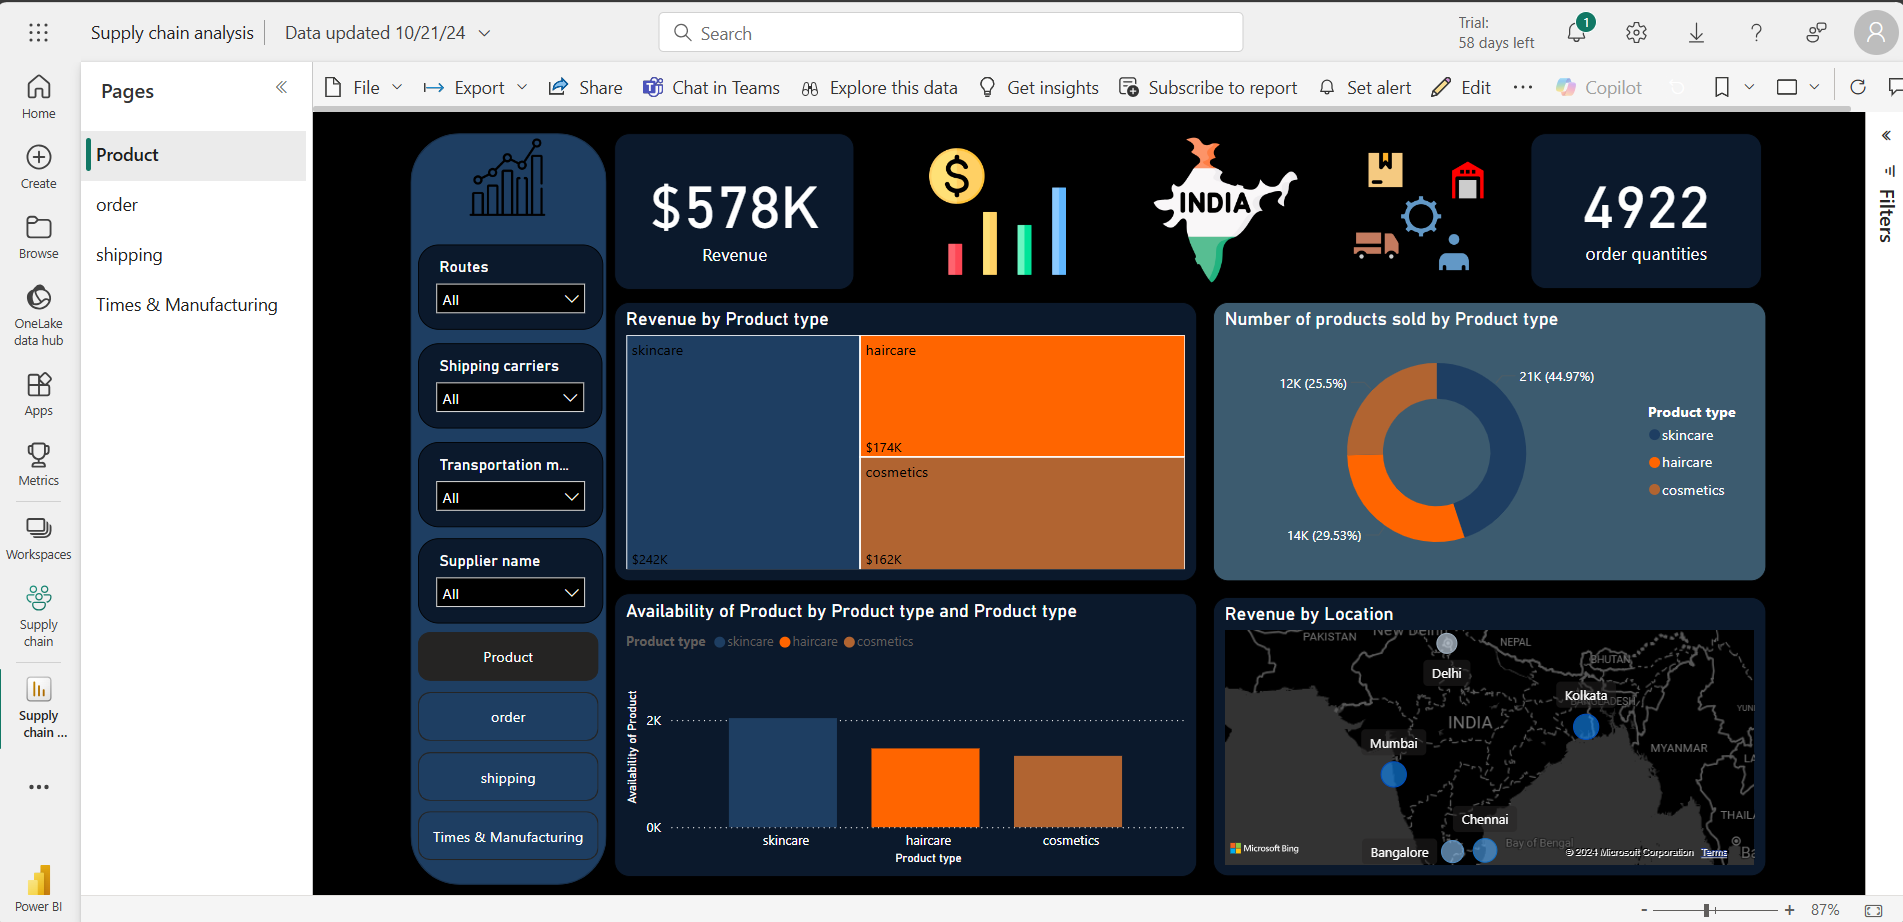

The page's visual inventory and layout, read from the dashboard file:
{"tool":"powerbi","page":{"name":"Product","canvas":[1280,720],"ordinal":0},"visuals":[{"type":"shape","box":[16.1,19.6,180.4,691.1],"z":0},{"type":"donutChart","title":"Number of products sold by Product type","fields":{"Category":["Dim_product.Product type"],"Y":["calculated_measures.Number of Product Sold"]},"box":[753.6,175,508.9,257.1],"z":1000},{"type":"treemap","fields":{"Group":["Dim_product.Product type","Fact_sales.Customer demographics"],"Values":["calculated_measures.Revenue"]},"box":[203.6,175,535.7,257.1],"z":2000},{"type":"columnChart","fields":{"Category":["Dim_product.Product type"],"Y":["calculated_measures.Availability of Product"],"Series":["Dim_product.Product type"]},"box":[203.6,442.9,535.7,260.7],"z":3000},{"type":"map","fields":{"Size":["calculated_measures.Revenue"],"Category":["Dim_shipping.Location"]},"box":[753.6,446.4,508.9,257.1],"z":4000},{"type":"card","fields":{"Values":["calculated_measures.Revenue"]},"box":[203.8,19.2,221.2,144.2],"z":5000},{"type":"card","fields":{"Values":["calculated_measures.order quantities"]},"box":[1046.4,19.6,212.5,142.9],"z":6000},{"type":"slicer","fields":{"Values":["Dim_shipping.Routes"]},"box":[23.1,122,170.8,78.3],"z":7000},{"type":"slicer","fields":{"Values":["Dim_shipping.Shipping carriers"]},"box":[23.1,213.2,169.5,78.3],"z":8000},{"type":"slicer","fields":{"Values":["Dim_shipping.Transportation modes"]},"box":[23.1,303.1,170.8,78.3],"z":9000},{"type":"slicer","fields":{"Values":["Dim_shipping.Supplier name"]},"box":[23.1,391.7,170.8,78.3],"z":10000},{"type":"pageNavigator","box":[23.1,477.7,166.9,213.2],"z":11000},{"type":"image","box":[37.2,19.3,137.4,80.9],"z":12000},{"type":"image","box":[675.4,15.4,179.8,150.2],"z":13000},{"type":"image","box":[436.6,19.3,238.8,143.8],"z":14000},{"type":"image","box":[855.2,19.3,175.9,143.8],"z":15000}]}

Visuals, with their boxes on the page's 1280x720 design canvas (x1, y1, x2, y2). These are canvas units, not pixel positions in the 1903x922 screenshot, which may show the page scaled, cropped or inside an application window:
shape: 16,20,196,711
"Number of products sold by Product type" donutChart: 754,175,1262,432
treemap - Dim_product.Product type x Fact_sales.Customer demographics: 204,175,739,432
columnChart - Dim_product.Product type x calculated_measures.Availability of Product: 204,443,739,704
map - calculated_measures.Revenue x Dim_shipping.Location: 754,446,1262,704
card - calculated_measures.Revenue: 204,19,425,163
card - calculated_measures.order quantities: 1046,20,1259,162
slicer - Dim_shipping.Routes: 23,122,194,200
slicer - Dim_shipping.Shipping carriers: 23,213,193,292
slicer - Dim_shipping.Transportation modes: 23,303,194,381
slicer - Dim_shipping.Supplier name: 23,392,194,470
pageNavigator: 23,478,190,691
image: 37,19,175,100
image: 675,15,855,166
image: 437,19,675,163
image: 855,19,1031,163
